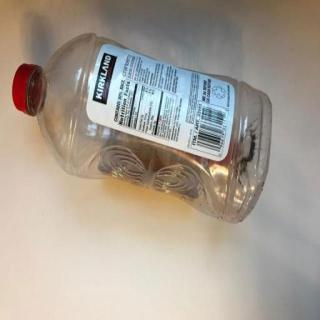Plastic-bottle: (13, 32, 274, 225)
